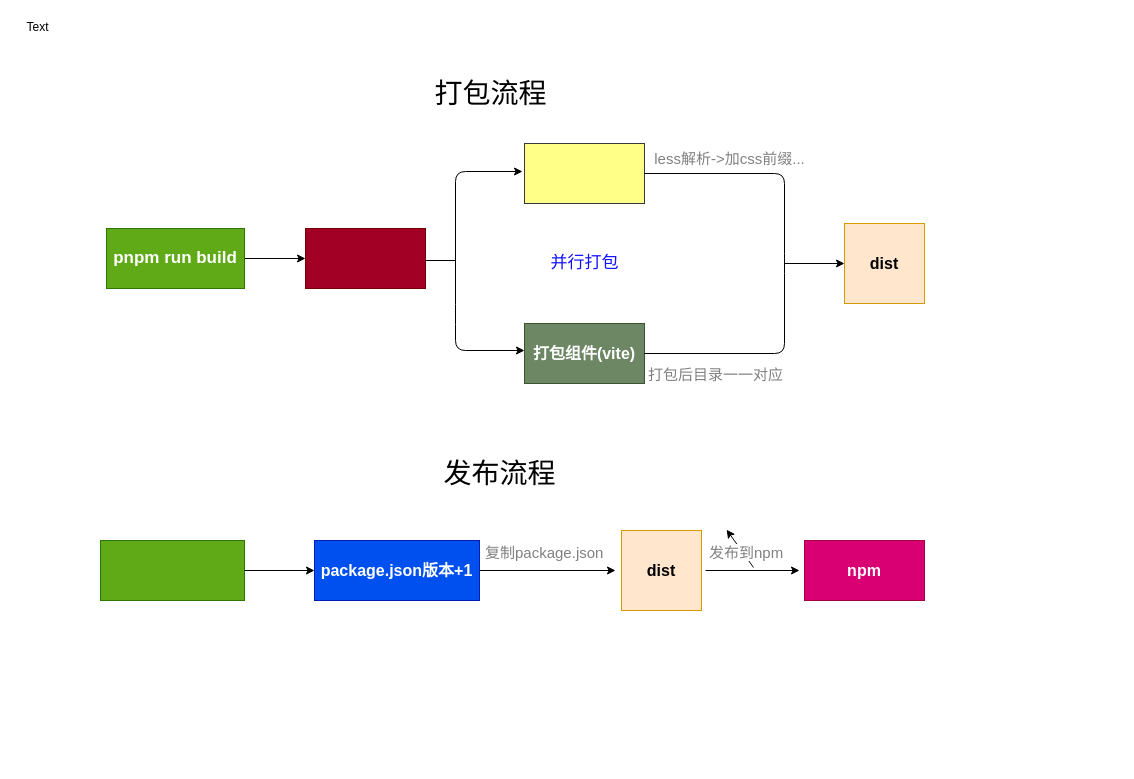
Some shapes in this 1134 by 779 pixel diagram are drawn without their labels. The shapes that lost their labels are listed below. From the top down, each one's centre as x and y in pixels, then its label:
At (x=584, y=173): "处理l样式(gulp)".
At (x=365, y=258): "删除dist文件".
At (x=172, y=570): "pnpm run publish".
